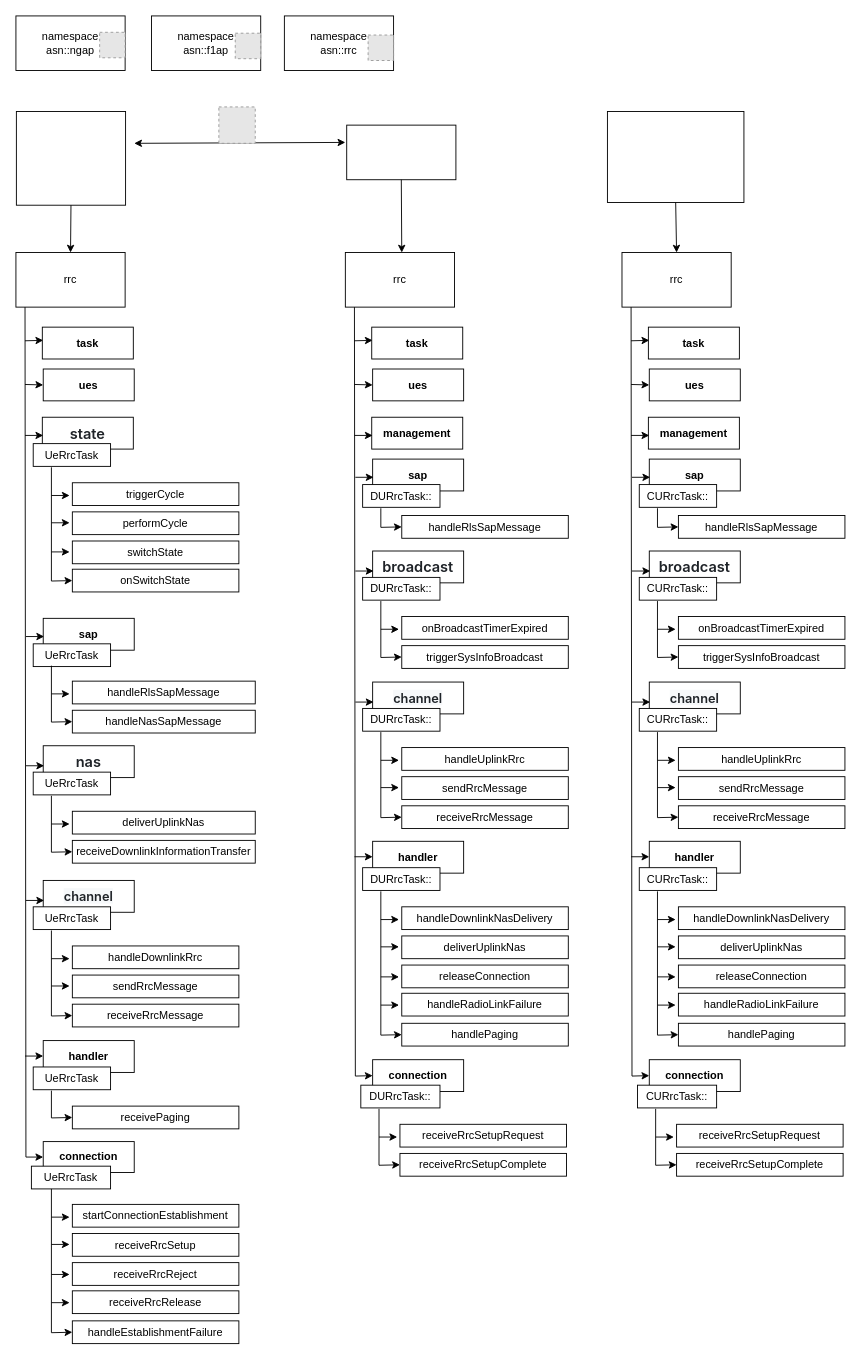
Some shapes in this 861 by 1360 pixel diagram are drawn without their labels. Grey dashed boxes stand in for pictures. The shapes that lost their labels are listed below. From the top down, each one's centre as x and y in pixels, then its label:
At point 70,158: "UE namespace nr::ue nr::ue::nas_enc nr::ue::key nr::ue::tun".
At point 401,152: "w-agf namespace nr:w_agf".
At point 675,156: "CU namespace nr::CU nr::CU::ngap_utils nr::CU::ngap_encode".
